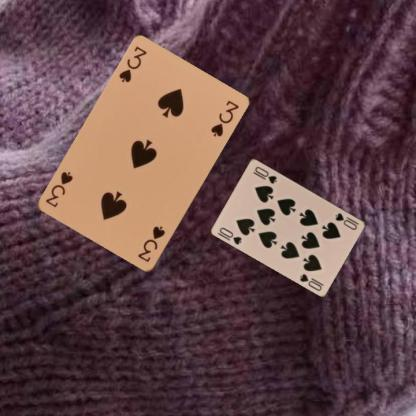10s: (333, 210, 360, 231), (217, 225, 243, 246)
3s: (116, 44, 149, 84), (136, 224, 166, 264)
